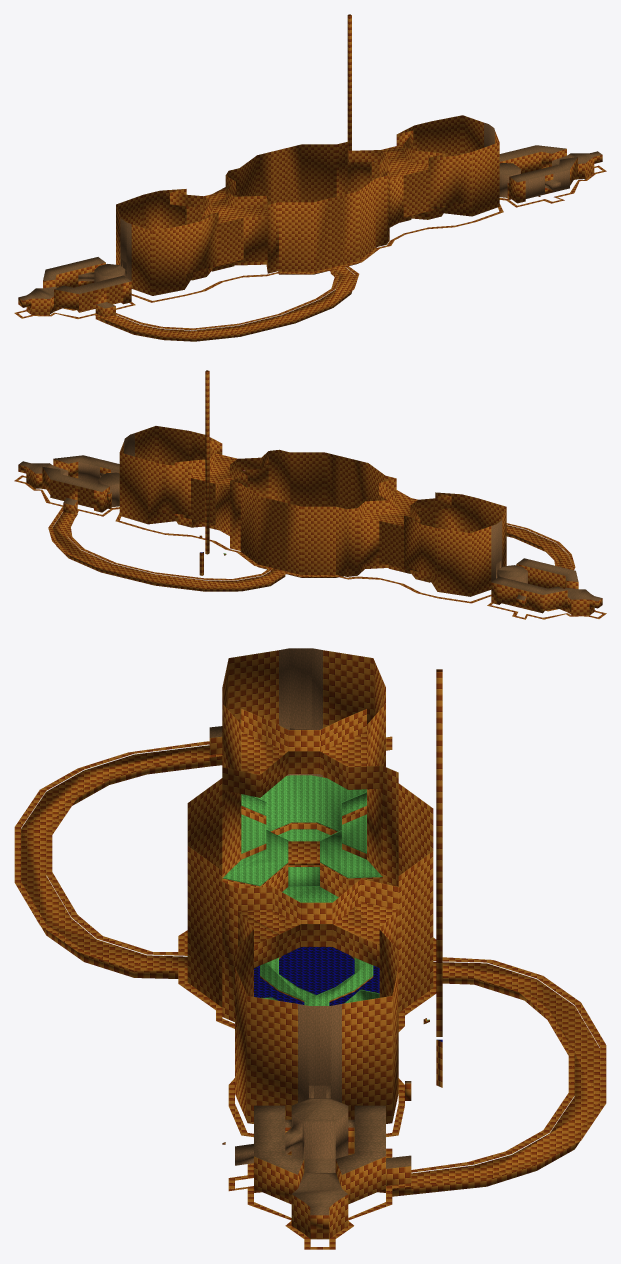
Rendered from F_LimeForest.fbx.
3 renders of one model, top to bottom at view 1: azimuth 30°, elevation 25°; view 2: azimuth 150°, elevation 25°; view 3: azimuth 270°, elevation 25°, orthographic. The views are drawn at different scales.
Visible parts, largest first — view 1: MAP81; view 2: MAP81; view 3: MAP81, MAP81Water, MAP81Unpegged.
Part boxes in pixels (box(x1,y1,x2,y2)): MAP81: box(14, 14, 606, 341); MAP81: box(14, 370, 606, 619); MAP81: box(14, 648, 606, 1249); MAP81Water: box(254, 947, 442, 1042); MAP81Unpegged: box(222, 792, 382, 1003).
Size of the model in its own units: 21300 by 7200 by 9400.
